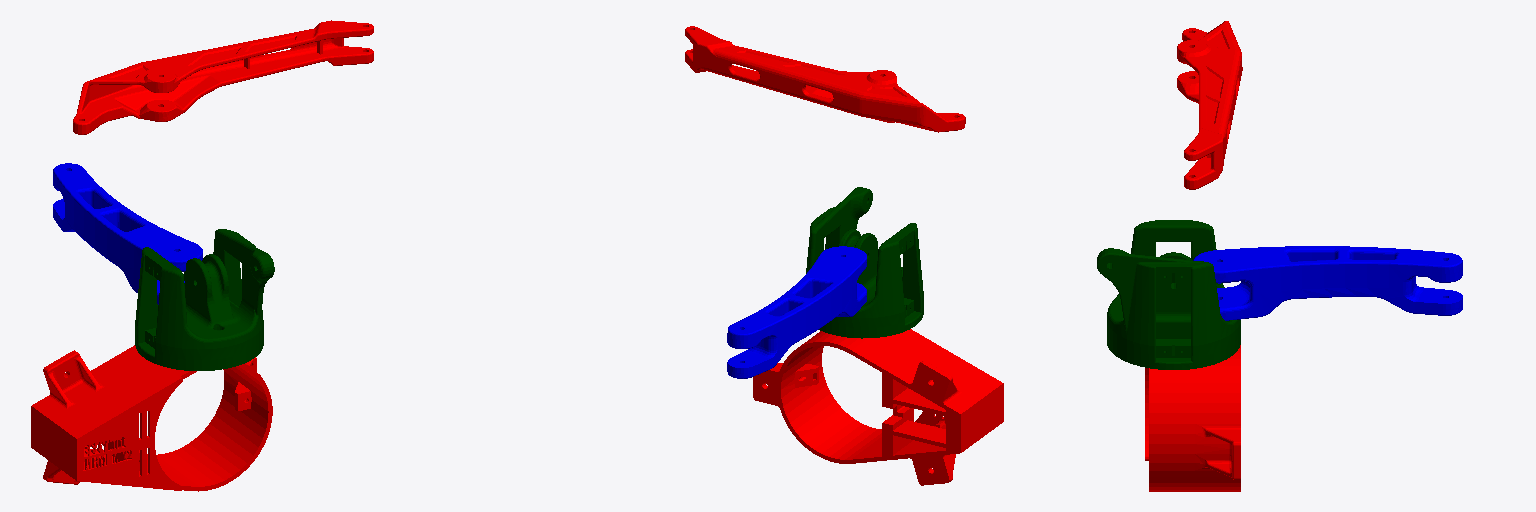
robot.urdf — mk2:
<?xml version="1.0" encoding="utf-8"?>
<!-- This URDF was automatically created by SolidWorks to URDF Exporter! Originally created by [author] ([email redacted]) 
     Commit Version: 1.5.1-0-g916b5db  Build Version: 1.5.7152.31018
     For more information, please see http://wiki.ros.org/sw_urdf_exporter -->
<robot
  name="mk2">

  <link name="world"/>

  <joint name="fixed" type="fixed">
    <origin
      xyz="0 0 0"
      rpy="0 0 0" />
    <parent link="world"/>
    <child link="base_link"/>
    <limit
      lower="0"
      upper="3.14"
      effort="100"
      velocity="1" />
  </joint>

  <link
    name="base_link">
    <inertial>
      <origin
        xyz="-0.0349815868608093 3.45195601212453E-06 0.0235962032476716"
        rpy="0 0 0" />
      <mass
        value="0.0994478705571182" />
      <inertia
        ixx="8.78738122261951E-05"
        ixy="3.72504351469179E-09"
        ixz="-9.04628434837041E-06"
        iyy="0.000227120361491651"
        iyz="-3.50836759207426E-10"
        izz="0.000268632717528072" />
    </inertial>
    <visual>
      <origin xyz="0 0 0" rpy="0 0 0" />
      <geometry>
        <mesh filename="package://ebamk2_description/meshes/base_link.STL" />
      </geometry>
      <material name="">
        <color rgba="1 0 0 1" />
      </material>
    </visual>
    <collision>
      <geometry>
        <mesh filename="package://ebamk2_description/meshes/base_link.STL" />
      </geometry>
      <origin rpy="0 0 0" xyz="0 0 0"/>
    </collision>
  </link>

  <joint name="joint_1" type="revolute">
    <origin xyz="0 0 0.05" rpy="0 0 0" />
    <parent link="base_link" />
    <child link="link_1" />
    <axis xyz="0 0 1" />
    <limit effort="0" velocity="0"
      lower="-0.7854" upper="0.7854"/>
  </joint>

  <link
    name="link_1">
    <inertial>
      <origin
        xyz="0.00116183466010847 -0.000923292646146064 0.0204993310376243"
        rpy="0 0 0" />
      <mass
        value="0.143800774705571" />
      <inertia
        ixx="9.78517995973981E-05"
        ixy="2.76145534032057E-06"
        ixz="-4.65441556575713E-06"
        iyy="0.000103149724795545"
        iyz="4.667687422664E-06"
        izz="0.000114206001932188" />
    </inertial>
    <visual>
      <origin
        xyz="0 -0.04 0" rpy="0 0 0" />
      <geometry>
        <mesh filename="package://ebamk2_description/meshes/link_1.STL" />
      </geometry>
      <material name="">
        <color rgba="0 0.275 0 1" />
      </material>
    </visual>
    <collision>
      <origin
        xyz="0 -0.04 0" rpy="0 0 0" />
      <geometry>
        <mesh filename="package://ebamk2_description/meshes/link_1.STL" />
      </geometry>
    </collision>
  </link>

  <joint name="joint_2" type="revolute">
    <origin xyz="0 -0.005 0.037" rpy="1.578 0 0" />
    <parent link="link_1" />
    <child link="link_2" />
    <axis xyz="0 0 1" />
    <limit effort="0" velocity="0"
      lower="-0.80" upper="0.35"/>
  </joint>

  <link
    name="link_2">
    <inertial>
      <origin
        xyz="-0.00452931540875191 -0.00218873956418274 0.0580626465984603"
        rpy="0 0 0" />
      <mass
        value="0.0718134009125203" />
      <inertia
        ixx="0.000155028184165305"
        ixy="-3.27574749088659E-07"
        ixz="1.16340292401804E-06"
        iyy="0.000153346834667362"
        iyz="8.25382674555585E-07"
        izz="1.2243566135266E-05" />
    </inertial>
    <visual>
      <origin xyz="0 0 0.0075" rpy="3.14159 0 0" />
      <geometry>
        <mesh filename="package://ebamk2_description/meshes/link_2.STL" />
      </geometry>
      <material name="">
        <color rgba="0 0 1 1" />
      </material>
    </visual>
    <collision>
      <origin
        xyz="0 0 0.0075" rpy="3.14159 0 0" />
      <geometry>
        <mesh filename="package://ebamk2_description/meshes/link_2.STL" />
      </geometry>
    </collision>
  </link>

 <!--  <joint name="joint2v" type="revolute">
    <origin xyz="-0.021 0.135 -0.0105" rpy="1.570796325 0 0" />
    <parent link="link_2"/>
    <child link="link_2v"/>
    <axis xyz="0 1 0"/>
    <limit effort="30" velocity="1.0" lower="-3.14159" upper="3.14159" />
    <mimic joint="joint_2" multiplier="-1" offset="0" />
  </joint>

  <link name="link_2v">
    <visual>
      <geometry>
        <cylinder length="0.001" radius="0.0001"/>
      </geometry>
      <material name="">
        <color rgba="0 0 0 0" />
      </material>
      <origin rpy="0 0 0" xyz="0 0 0"/>
    </visual>
    <collision>
      <geometry>
        <cylinder length="0.0001" radius="0.0001"/>
      </geometry>
      <origin rpy="0 0 0" xyz="0 0 0"/>
    </collision>
  </link> -->

  <joint name="joint_3" type="revolute">
    <origin xyz="-0.021 0.135 -0.0105" rpy="1.570796325 0 0" />
    <parent link="link_2" />
    <child link="link_3" />
    <axis xyz="0 1 0" />
    <limit effort="0" velocity="0"
      lower="-0.77" upper="0.45"/>
  </joint>

  <link
    name="link_3">
    <inertial>
      <origin
        xyz="0.037081320711932 -0.00178416319260027 0.0124408984823689"
        rpy="0 0 0" />
      <mass
        value="0.0388737410647466" />
      <inertia
        ixx="5.53461367920462E-06"
        ixy="4.42111573845459E-06"
        ixz="6.20780709754226E-07"
        iyy="0.00013900648727504"
        iyz="4.70845831476123E-07"
        izz="0.000138729814786303" />
    </inertial>
    <visual>
      <origin xyz="0 0.0335  0.002" rpy="1.570796325 0 0" />
      <geometry>
        <mesh filename="package://ebamk2_description/meshes/link_3.STL" />
      </geometry>
      <material name="">
        <color rgba="1 0 0 1" />
      </material>
    </visual>
    <collision>
      <origin
        xyz="0 0.0335  0.002" rpy="1.570796325 0 0" />
      <geometry>
        <mesh filename="package://ebamk2_description/meshes/link_3.STL" />
      </geometry>
    </collision>
  </link>

  <joint name="joint_4" type="fixed">
    <origin xyz="0.1459 0.0185 0.0203" rpy="0 1.570796325 3.14159" />
    <parent link="link_3" />
    <child link="link_4" />
    <axis xyz="0 1 0" />
    <limit effort="0" velocity="0" lower="-3.14159" upper="3.14159"/>
  </joint>

  <link
    name="link_4">
    <inertial>
      <origin
        xyz="-0.00904521324105867 0.016161708416657 0.0161562110474978"
        rpy="0 0 0" />
      <mass
        value="0.0151686424476392" />
      <inertia
        ixx="4.23068158277324E-06"
        ixy="-2.60938380303925E-07"
        ixz="2.96419868226402E-07"
        iyy="2.6555628669253E-06"
        iyz="9.03977750880711E-07"
        izz="2.55615306101055E-06" />
    </inertial>
    <visual>
      <origin xyz="-0.006 0 -0.0394" rpy="0 0 0" />
      <geometry>
        <mesh filename="package://ebamk2_description/meshes/link_4.STL" scale="0.001 0.001 0.001" />
      </geometry>
      <material name="">
        <color rgba="0 0.275 0 1" />
      </material>  
    </visual>
    <collision>
      <origin
        xyz="-0.006 0 -0.0394" rpy="0 0 0" />
      <geometry>
        <mesh filename="package://ebamk2_description/meshes/link_4.STL" scale="0.001 0.001 0.001" />
      </geometry>
    </collision>
  </link>

  <joint name="joint_5" type="fixed">
    <origin xyz="-0.0095 0.001 -0.033" rpy="-0 1.570796325 0" />
    <parent link="link_4" />
    <child link="claw_base" />
    <axis xyz="1 0 0" />
  </joint>

  <link
    name="claw_base">
    <inertial>
      <origin
        xyz="0.00644953017850305 -0.00017902127468191 0.00761523104103851"
        rpy="0 0 0" />
      <mass
        value="0.00812744275701585" />
      <inertia
        ixx="8.61994479025372E-07"
        ixy="-2.11585838806158E-08"
        ixz="4.31549931637107E-07"
        iyy="2.25293774873985E-06"
        iyz="1.65458294619221E-08"
        izz="2.29927367017943E-06" />
    </inertial>
    <visual>
      <origin xyz="0 0 0" rpy="0 0 0" />
      <geometry>
        <mesh filename="package://ebamk2_description/meshes/link_5.STL" scale="0.001 0.001 0.001" />
      </geometry>
      <material name="">
        <color rgba="0 0 1 1" />
      </material>
    </visual>
    <collision>
      <origin
        xyz="0 0 0"
        rpy="0 0 0" />
      <geometry>
        <mesh filename="package://ebamk2_description/meshes/link_5.STL" scale="0.001 0.001 0.001" />
      </geometry>
    </collision>
  </link>

  <joint name="joint_6" type="revolute">
    <origin xyz="0.0196 0.021 -0.004" rpy="0 0 0" />
    <parent link="claw_base"/>
    <child link="claw_l"/>
    <axis xyz="0 0 1" />
    <limit effort="0" lower="0" upper="0.65" velocity="1.0" />
  </joint>

  <link
    name="claw_l">
    <inertial>
      <origin
        xyz="0.018795969030189 -0.00209029441611197 -0.00256048827274187"
        rpy="0 0 0" />
      <mass
        value="0.00138436151350558" />
      <inertia
        ixx="2.16139574184186E-08"
        ixy="1.517848128097E-08"
        ixz="2.79262652439626E-08"
        iyy="4.15144873931117E-07"
        iyz="-3.53758311900147E-09"
        izz="4.0210212013052E-07" />
    </inertial>
    <visual>
      <origin xyz="0.0505 0.000 0" rpy="0 0 2.9" />
      <geometry>
        <mesh filename="package://ebamk2_description/meshes/claw_l.STL" scale="0.001 0.001 0.001" />
      </geometry>
    </visual>
    <collision>
      <origin xyz="0.0505 0.000 0" rpy="0 0 2.9" />
      <geometry>
        <mesh filename="package://ebamk2_description/meshes/claw_l.STL" scale="0.001 0.001 0.001" />
      </geometry>
    </collision>
  </link>

  <joint name="joint_7" type="revolute">
    <origin xyz="0.0196 0.0040 -0.004" rpy="0 0 0" />
    <parent link="claw_base"/>
    <child link="claw_r"/>
    <axis xyz="0 0 -1" />
    <limit effort="0" lower="0" upper="0.65" velocity="1.0" />
    <mimic joint="joint_6" multiplier="1.0" offset="0" />
  </joint>

  <link
    name="claw_r">
    <inertial>
      <origin
        xyz="0.0184397787649197 -0.00093284347084055 -0.00253431616879777"
        rpy="0 0 0" />
      <mass
        value="0.00143203670791784" />
      <inertia
        ixx="2.18331042102845E-08"
        ixy="-1.6002566519607E-08"
        ixz="2.86397375361884E-08"
        iyy="4.26824046623585E-07"
        iyz="3.65519116896282E-09"
        izz="4.13780496158708E-07" />
    </inertial>
    <visual>
      <origin xyz="0.0488 0.0102 0" rpy="0 0 3.14159" />
      <geometry>
        <mesh filename="package://ebamk2_description/meshes/claw_r.STL" scale="0.001 0.001 0.001" />
      </geometry>
    </visual>
    <collision>
      <origin xyz="0.0488 0.0102 0" rpy="0 0 3.14159" />
      <geometry>
        <mesh filename="package://ebamk2_description/meshes/claw_r.STL" scale="0.001 0.001 0.001" />
      </geometry>
    </collision>
  </link>

</robot>

--- What the picture shows (computed from the rendered views, not written in the file) ---
Views: 3 orthographic renders of the robot side by side, from view 1: azimuth 30°, elevation 25°; view 2: azimuth 150°, elevation 25°; view 3: azimuth 270°, elevation 25°.
Model mk2 with 9 links and 8 joints (5 revolute, 3 fixed), rooted at world, posed all joints at 0.
Links seen in each view (by area): view 1: base_link, link_1, link_3, link_2; view 2: base_link, link_3, link_1, link_2; view 3: link_1, link_2, base_link, link_3.
Link boxes in pixels (left/top/right/bottom): base_link: left=31, top=345, right=272, bottom=491; link_1: left=135, top=229, right=274, bottom=370; link_3: left=73, top=20, right=373, bottom=134; link_2: left=53, top=163, right=202, bottom=304; base_link: left=753, top=329, right=1003, bottom=485; link_3: left=685, top=26, right=965, bottom=132; link_1: left=806, top=187, right=923, bottom=338; link_2: left=727, top=246, right=866, bottom=378; link_1: left=1097, top=220, right=1240, bottom=369; link_2: left=1193, top=246, right=1462, bottom=320; base_link: left=1145, top=345, right=1240, bottom=491; link_3: left=1177, top=21, right=1242, bottom=189.
Size in the robot's own frame: 0.326 by 0.2186 by 0.2802 metres.
Meshes: 8 distinct files referenced, 7 mesh visuals loaded (7 binary STL); not drawn: 1 (reference not matched to a file when rendering).
